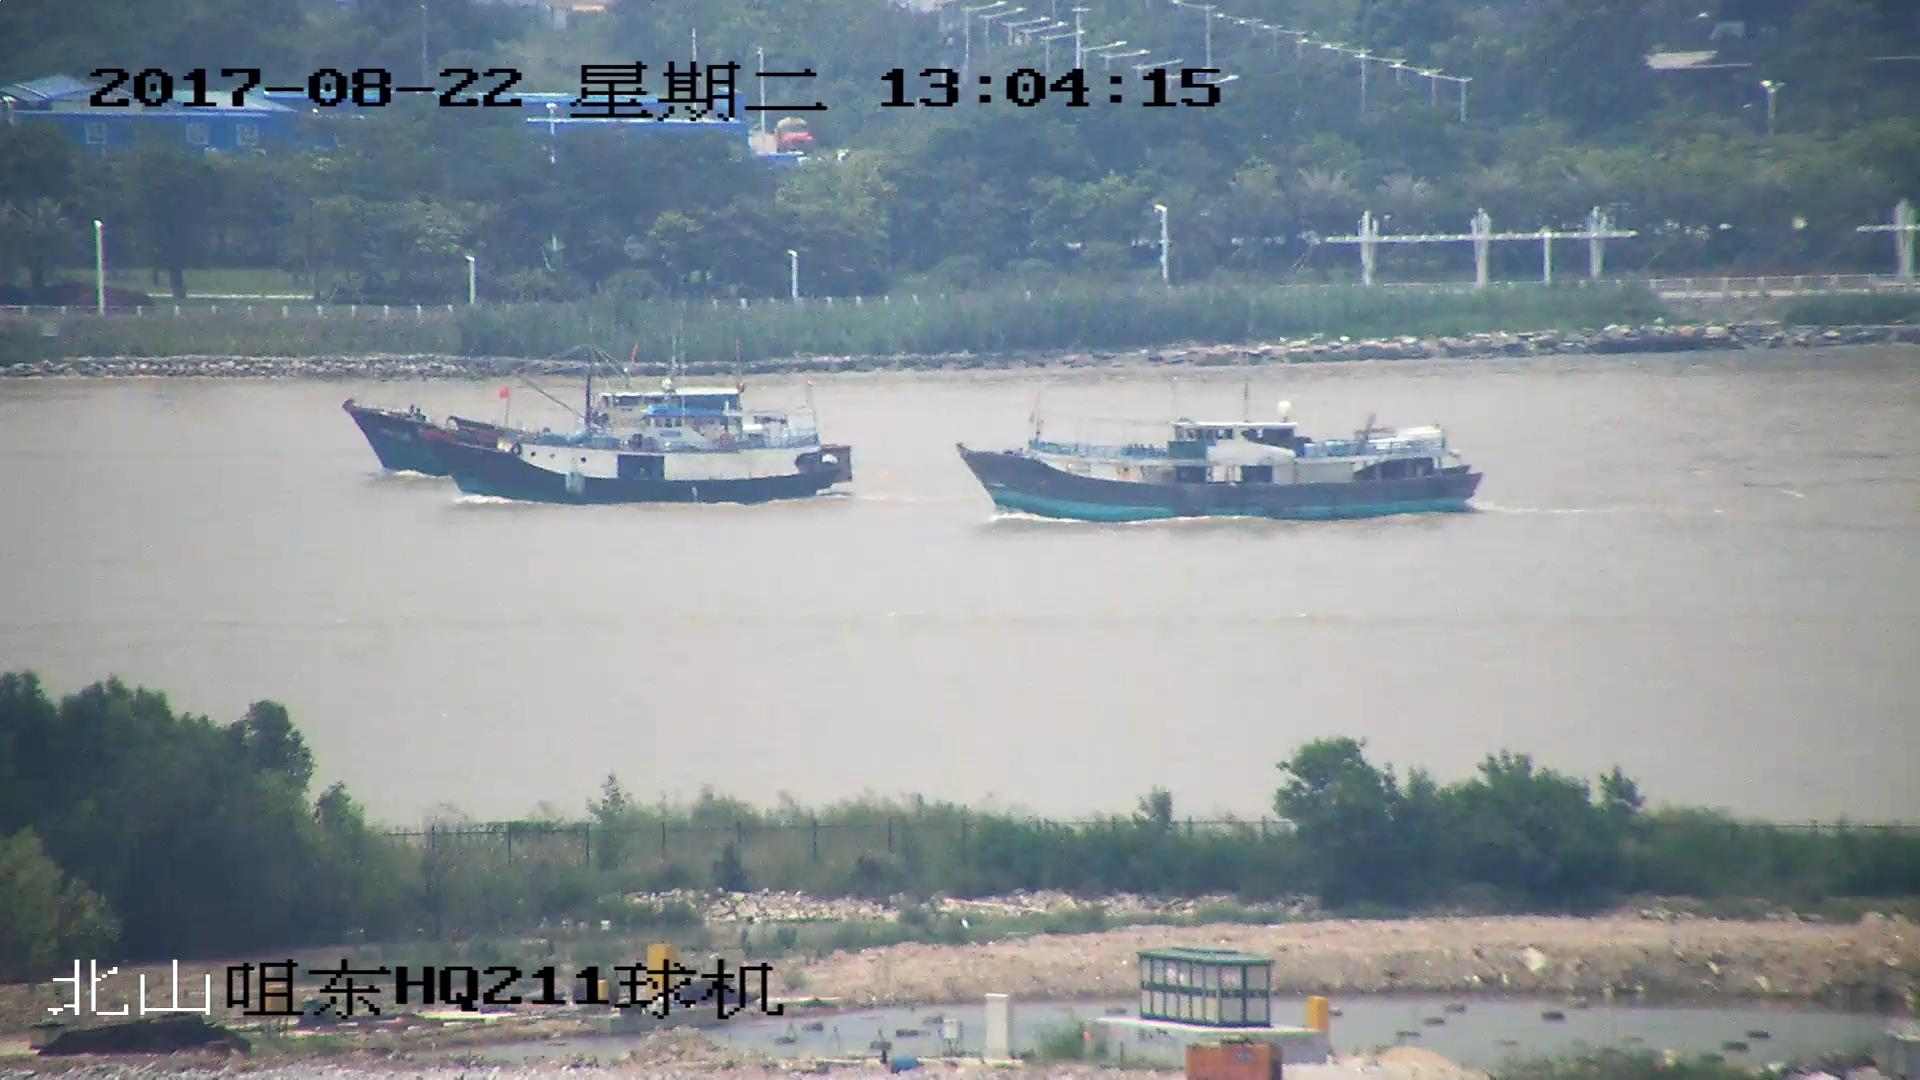fishing boat: (959, 407, 1485, 520), (427, 386, 850, 503), (348, 376, 768, 478)
